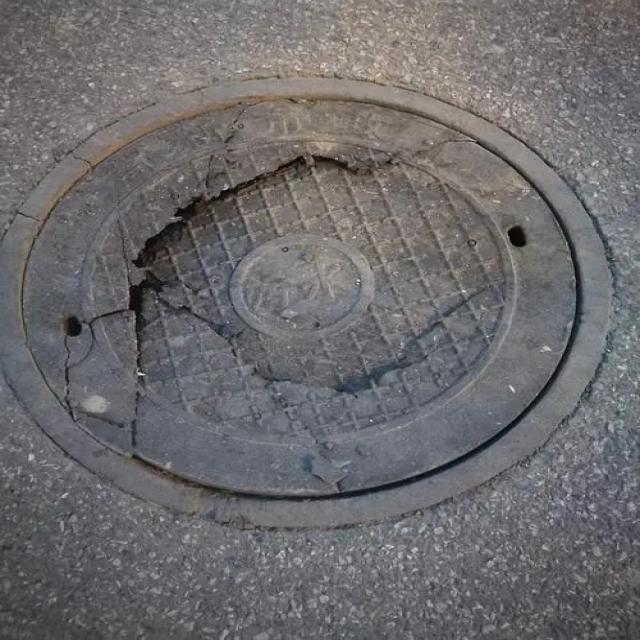manhole: (0, 79, 611, 526)
